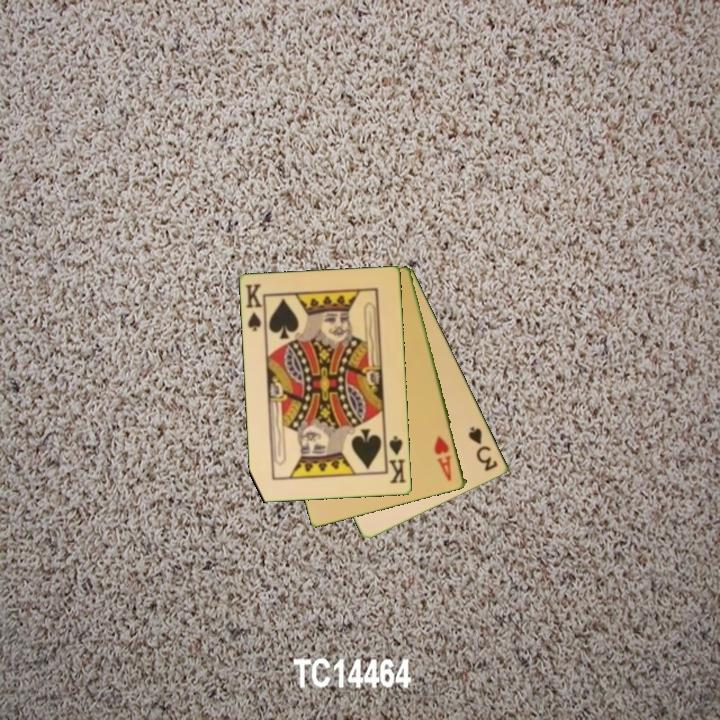3s: (465, 423, 501, 474)
Ah: (431, 432, 455, 484)
Ks: (242, 281, 268, 335), (383, 433, 409, 486)
